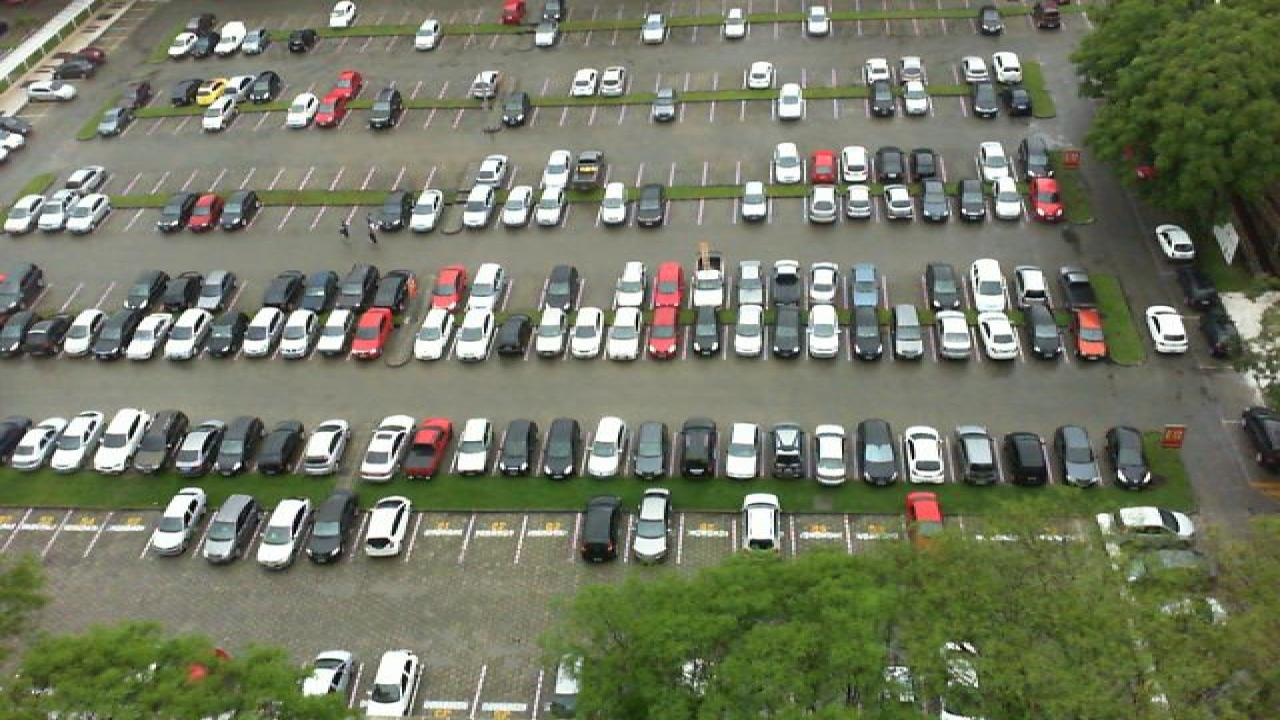Car: (142, 486, 208, 557), (250, 498, 312, 570), (196, 494, 258, 566), (304, 488, 360, 565), (126, 411, 192, 474), (356, 413, 418, 480), (364, 648, 420, 719), (46, 408, 106, 472), (298, 649, 358, 712), (6, 414, 74, 469), (1096, 504, 1198, 540), (92, 407, 148, 472), (360, 495, 414, 559), (630, 487, 674, 565), (210, 417, 264, 480), (300, 416, 354, 477), (402, 417, 454, 480), (574, 495, 620, 566), (856, 417, 902, 488), (252, 415, 304, 477), (168, 417, 222, 476), (1110, 424, 1156, 492), (584, 414, 630, 480), (1004, 428, 1052, 488), (1058, 424, 1102, 489), (954, 425, 1000, 487), (902, 425, 948, 487), (536, 417, 580, 481), (628, 418, 672, 481), (450, 418, 496, 478), (156, 306, 206, 361), (308, 305, 356, 362), (738, 492, 782, 554), (494, 419, 538, 480), (346, 307, 394, 362), (808, 424, 850, 486), (976, 308, 1024, 362), (234, 307, 282, 361), (272, 306, 318, 362), (720, 422, 764, 480), (118, 308, 166, 361), (450, 307, 496, 362), (676, 418, 718, 478), (48, 308, 96, 360), (84, 307, 130, 361), (970, 256, 1014, 312), (770, 423, 810, 483), (196, 310, 244, 360), (934, 308, 976, 364), (722, 305, 764, 361), (1072, 304, 1112, 362), (364, 264, 410, 314), (906, 490, 950, 542), (326, 260, 370, 312), (568, 304, 608, 361), (1026, 307, 1068, 361), (410, 310, 452, 364), (1146, 305, 1192, 354), (14, 309, 58, 360), (1012, 264, 1056, 315), (604, 306, 644, 362), (422, 262, 464, 315), (202, 267, 248, 315), (530, 304, 568, 362), (268, 266, 312, 316), (924, 262, 964, 316), (890, 306, 928, 362), (848, 307, 886, 363), (804, 305, 842, 361), (1062, 263, 1102, 316), (164, 266, 208, 314), (492, 312, 534, 362), (764, 306, 802, 361), (648, 303, 684, 361), (124, 270, 170, 315), (688, 303, 722, 362), (64, 191, 110, 234), (846, 258, 884, 310), (1028, 174, 1068, 223), (692, 256, 728, 310), (540, 262, 578, 313), (464, 263, 502, 314), (2, 189, 44, 234), (462, 182, 502, 229), (406, 187, 446, 234), (988, 175, 1026, 224), (34, 190, 76, 234), (154, 190, 196, 233), (612, 260, 648, 310), (768, 259, 804, 308), (730, 260, 766, 309), (652, 260, 688, 309), (364, 86, 404, 130), (90, 96, 130, 140), (806, 261, 842, 309), (184, 191, 224, 234), (468, 153, 512, 192), (1018, 133, 1054, 180), (218, 191, 258, 233), (976, 140, 1016, 182), (312, 89, 354, 128), (1156, 223, 1200, 260), (500, 184, 536, 229), (806, 180, 842, 224), (770, 142, 806, 186), (598, 182, 632, 228), (200, 92, 238, 132), (244, 68, 284, 106), (916, 178, 950, 222), (882, 181, 916, 225), (568, 148, 602, 192), (282, 90, 320, 129), (954, 176, 986, 222), (998, 80, 1036, 118), (738, 179, 770, 224), (538, 184, 570, 229), (494, 91, 530, 131), (842, 182, 876, 224), (164, 26, 206, 60), (874, 146, 908, 187), (542, 149, 576, 190), (190, 77, 232, 110), (634, 182, 666, 225), (118, 78, 156, 114), (914, 146, 948, 186), (210, 76, 250, 110), (840, 144, 872, 186), (324, 69, 366, 101), (966, 81, 1002, 118), (212, 22, 250, 57), (164, 78, 202, 112), (956, 53, 992, 88), (866, 80, 900, 117), (804, 150, 836, 189), (906, 81, 940, 117), (774, 82, 806, 120), (464, 70, 500, 102), (898, 54, 932, 87), (992, 50, 1024, 84), (594, 65, 626, 99), (1030, 0, 1064, 32), (802, 6, 834, 40), (284, 25, 318, 57), (648, 89, 678, 125), (412, 18, 442, 54), (974, 5, 1006, 38), (240, 24, 272, 57), (862, 55, 894, 87), (566, 68, 598, 100), (744, 61, 778, 91), (638, 11, 668, 45), (542, 14, 572, 48), (326, 0, 360, 29), (688, 8, 716, 40), (498, 0, 528, 26)
